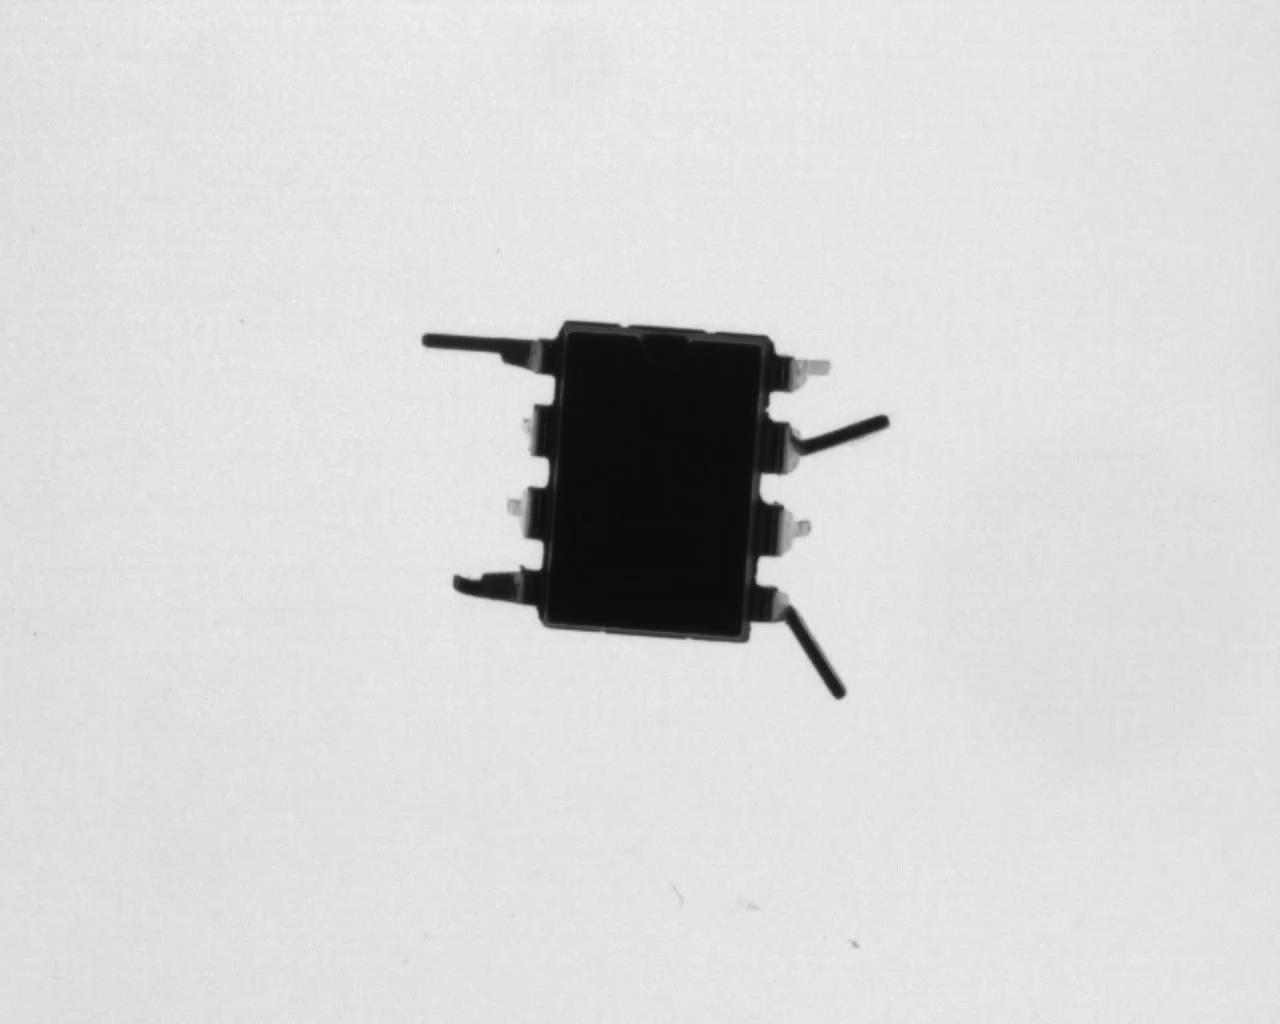Leg: (746, 584, 855, 703), (763, 403, 898, 484), (422, 326, 572, 376), (443, 556, 552, 610), (754, 490, 821, 561), (497, 482, 555, 550), (766, 346, 840, 394), (516, 397, 564, 462)
